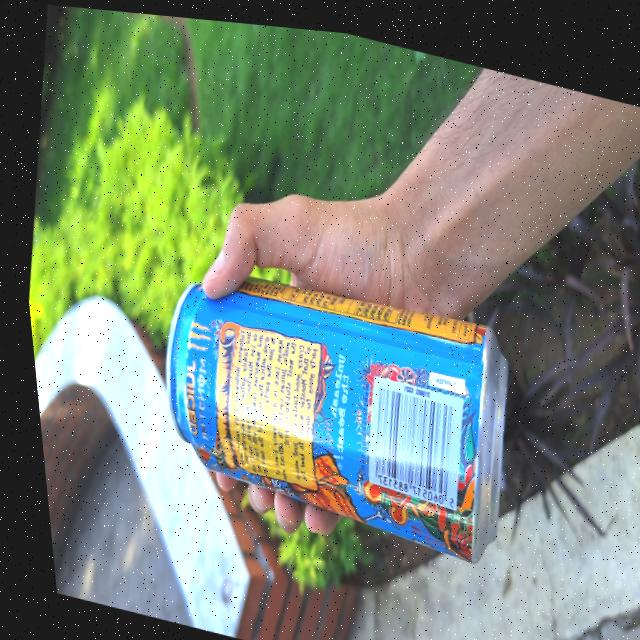Monster Mango Loco: (131, 230, 528, 554)
